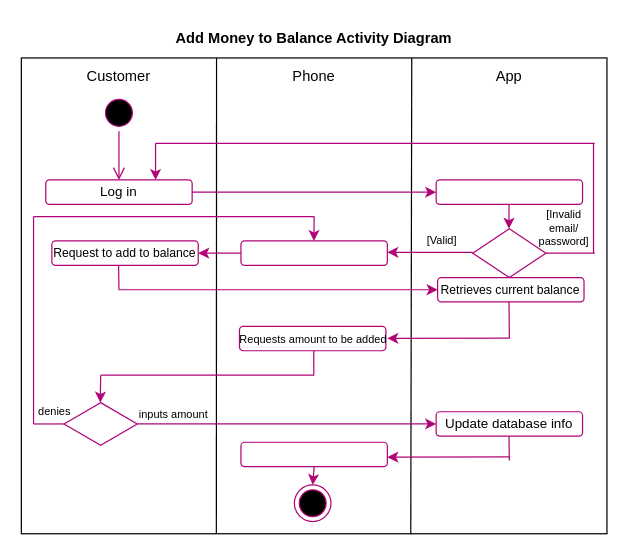
The diagram is 628 pixels wide and 556 high, and some of its shapes have lost their labels. Here are the shapes that lost their labels. From the top down, the centre of each, then its label:
At point (509, 191): "Authorize".
At point (313, 252): "Show Homepage".
At point (313, 454): "Displays updated account balance".
